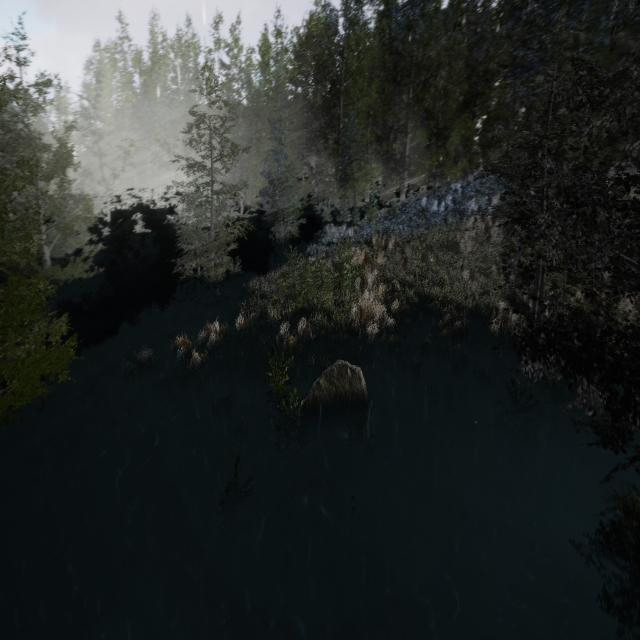Human: (303, 319, 314, 367)
